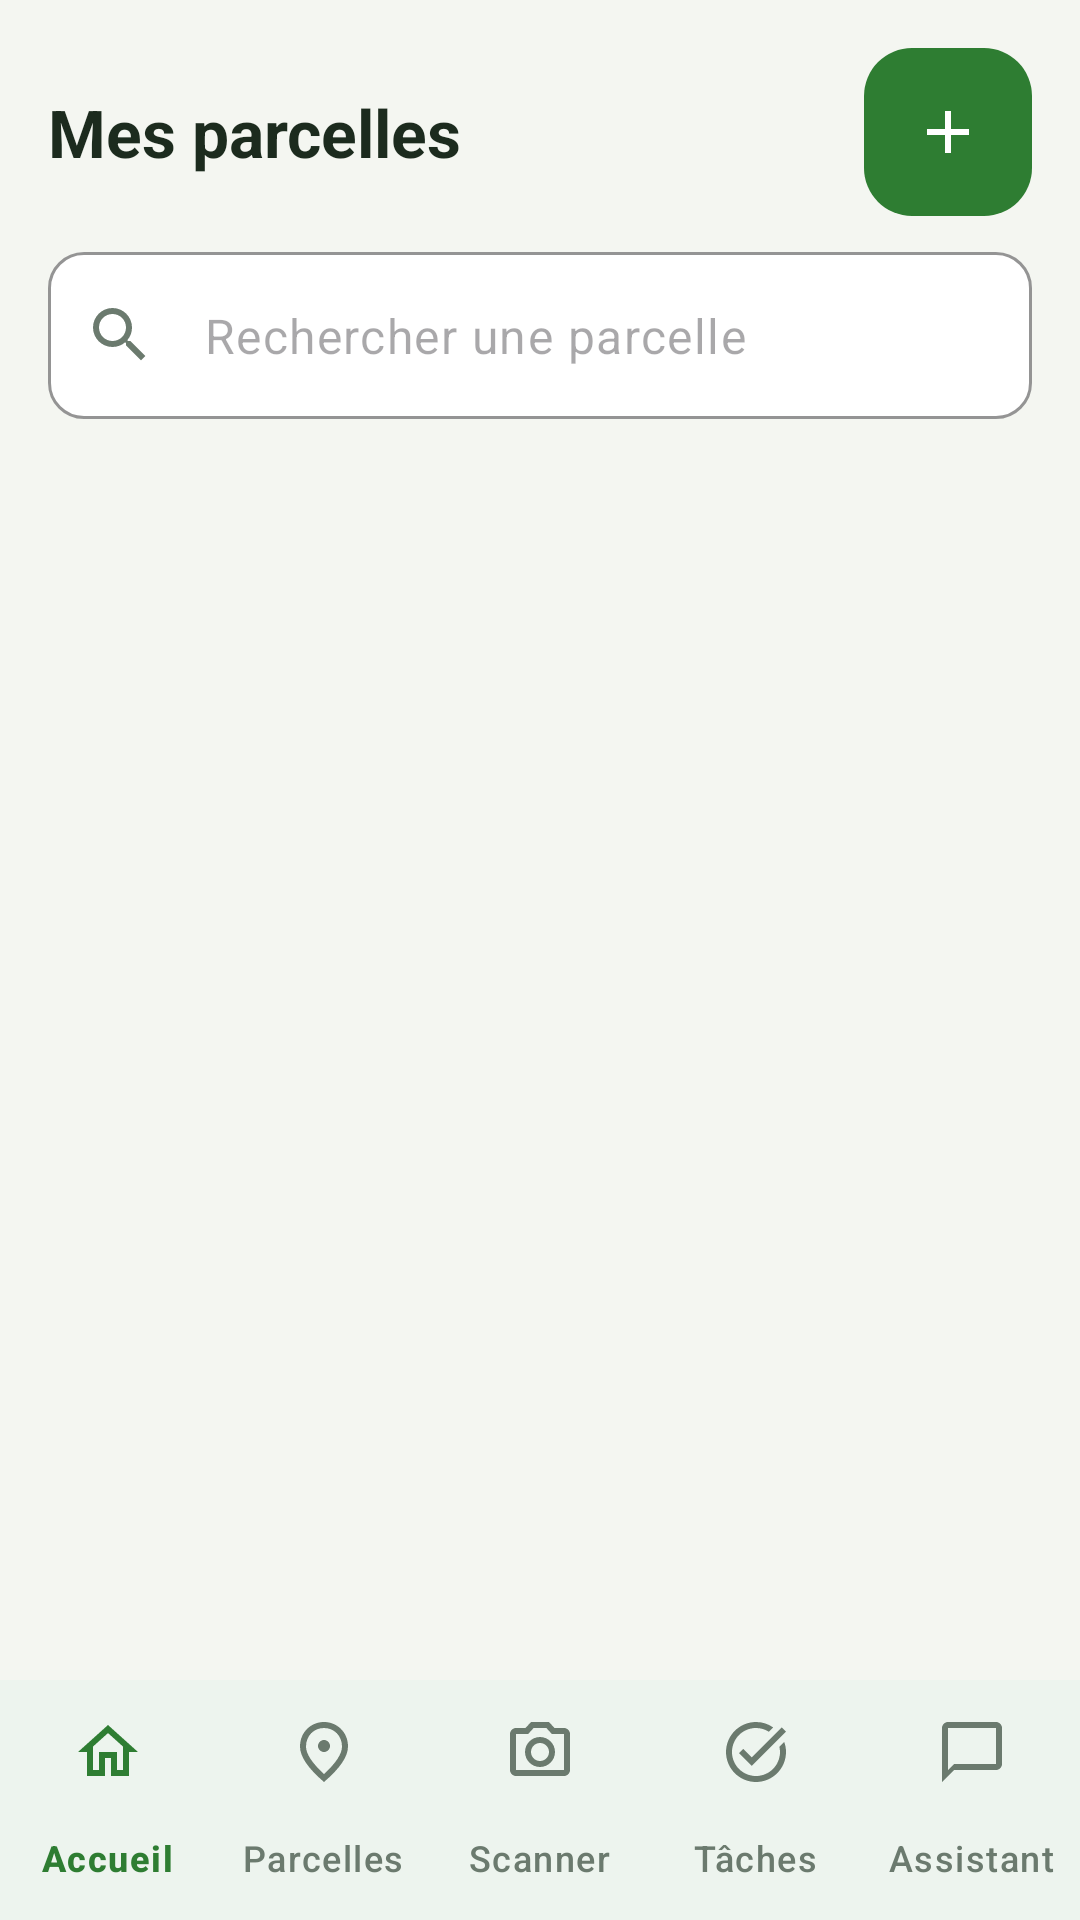

Screen size 1080px×1920px. Icon name, then its center in pixels as point (x, y):
Ajouter une parcelle: point (948, 132)
